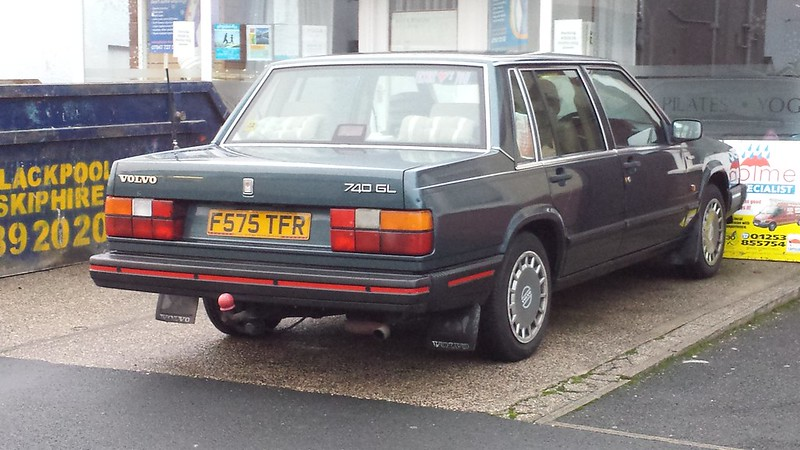number_plate: (197, 208, 320, 239)
